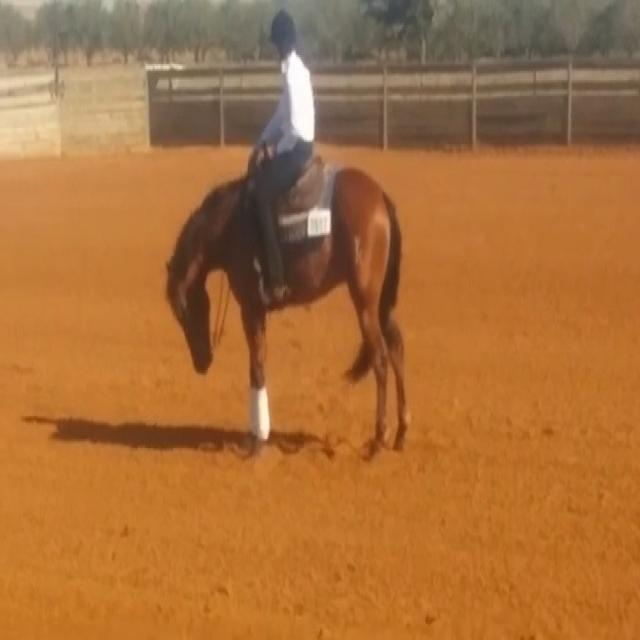horse: (162, 156, 412, 458)
